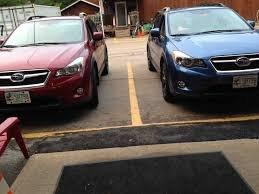Liscence Plate: (4, 92, 32, 104), (230, 76, 258, 87)
